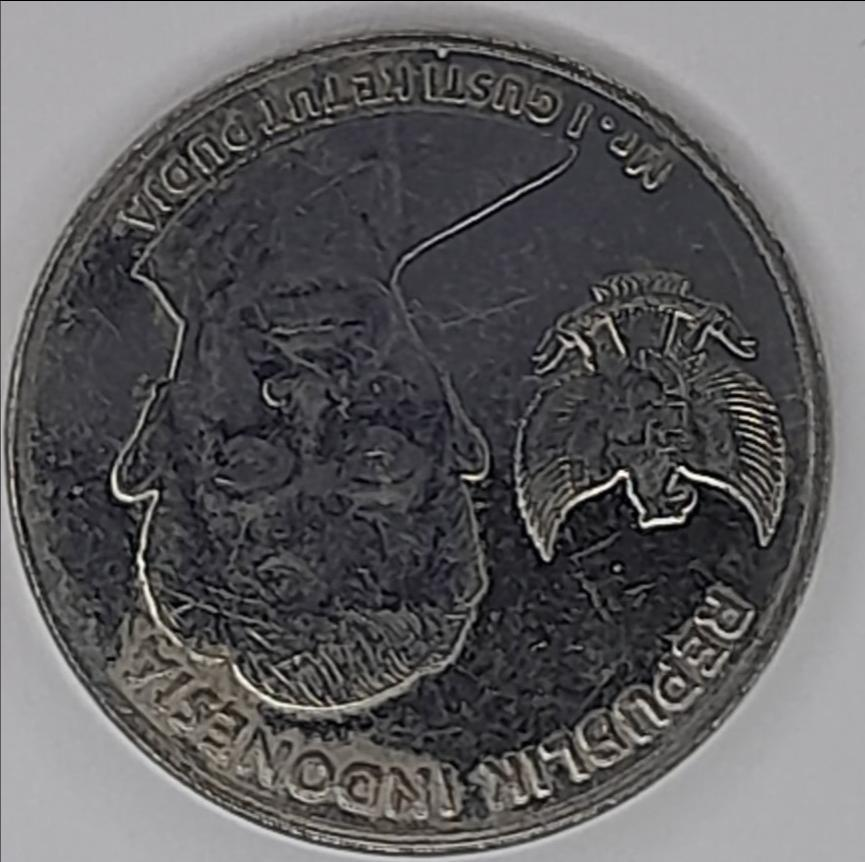coin_1000_e2016: (15, 17, 854, 862)
